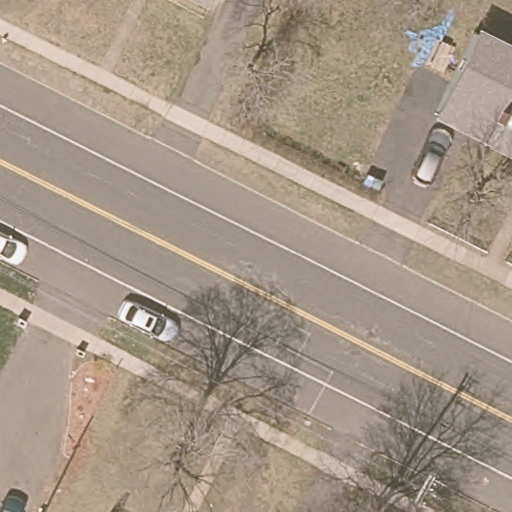DT: (411, 473, 446, 512)
